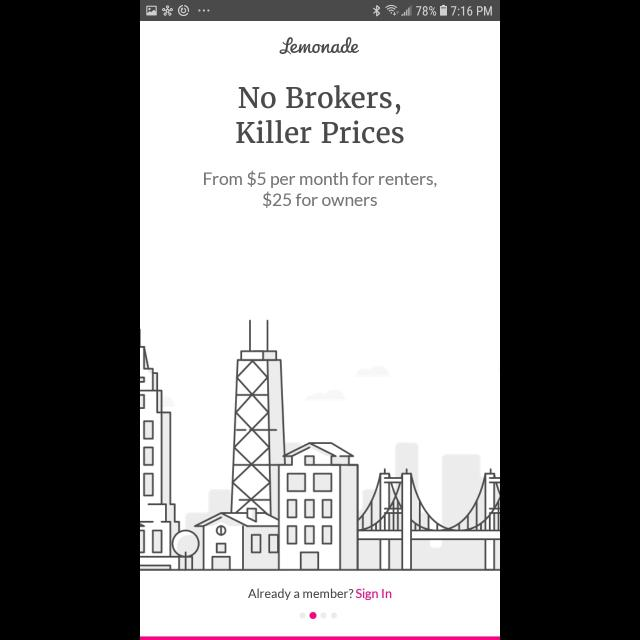image: (140, 320, 500, 570)
pageindicator: (299, 612, 337, 620)
text: (236, 84, 404, 144), (204, 171, 436, 209), (248, 588, 392, 600), (280, 37, 360, 54)
uppertaskbar: (140, 1, 500, 22)
